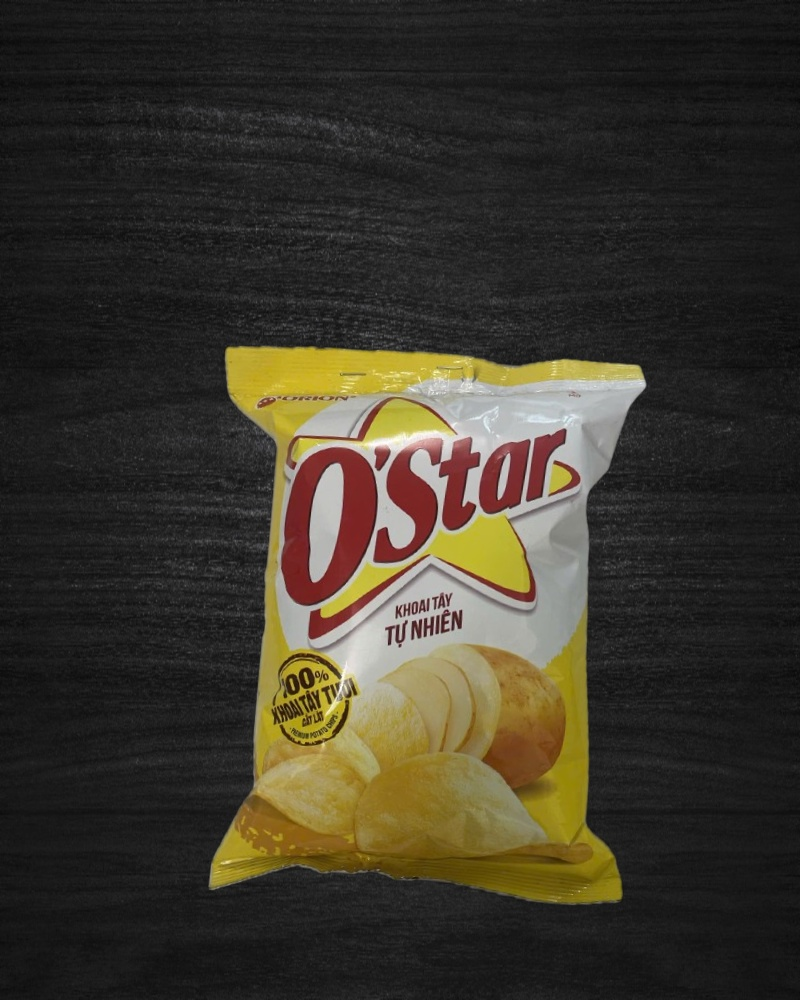O'star: (180, 329, 669, 926)
